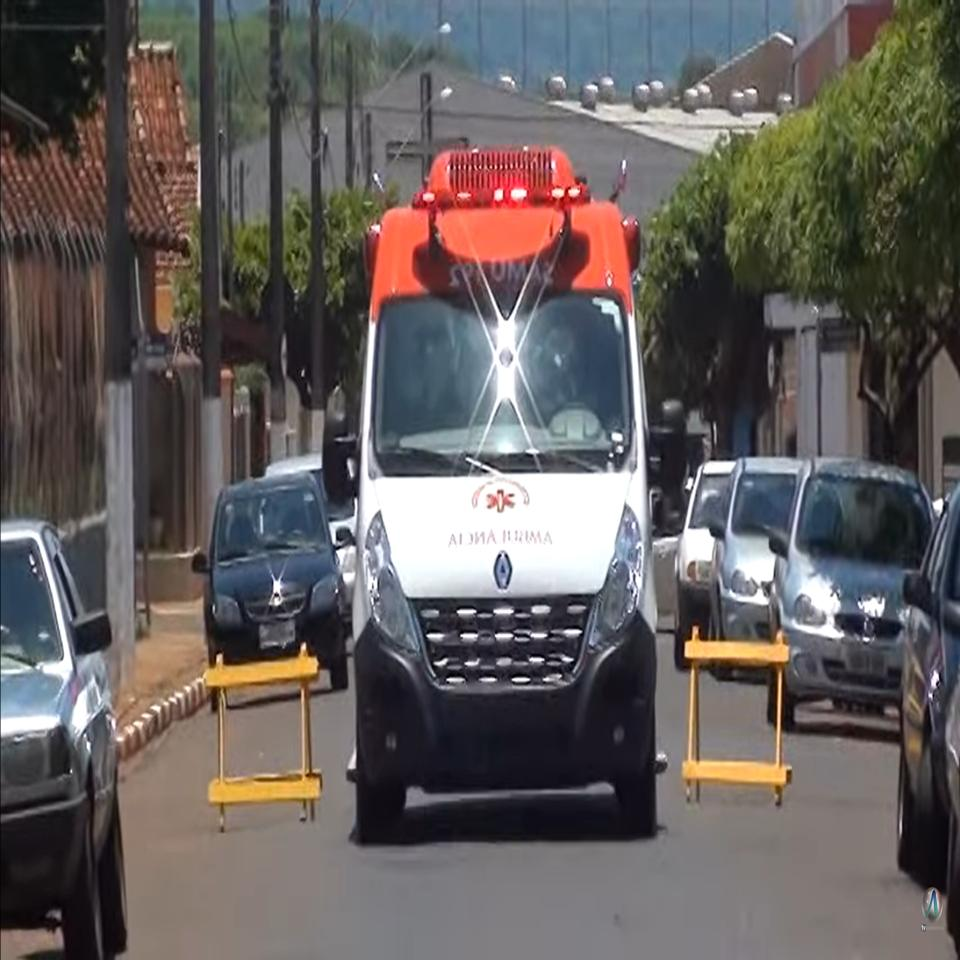bombeiro: (321, 140, 691, 842)
